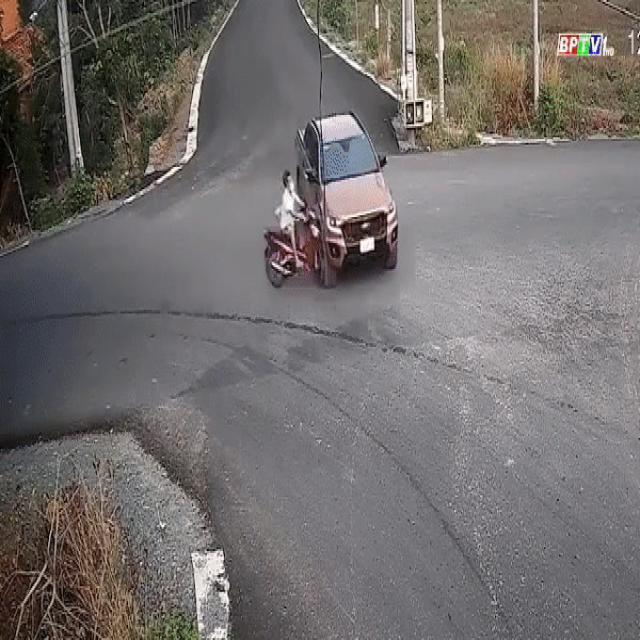multiple_accident: (256, 109, 401, 308)
